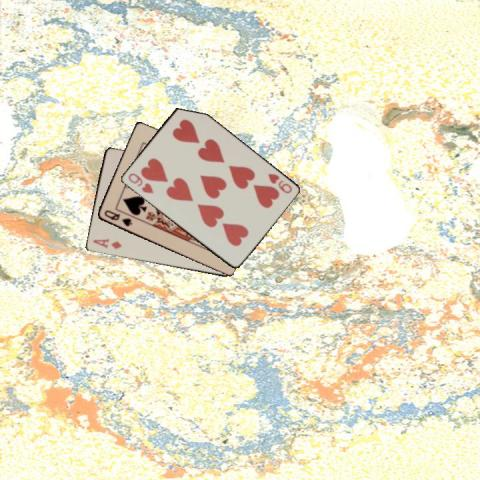9h: (125, 170, 154, 195), (265, 170, 293, 194)
Ad: (89, 236, 123, 251)
Qs: (101, 207, 133, 228)
